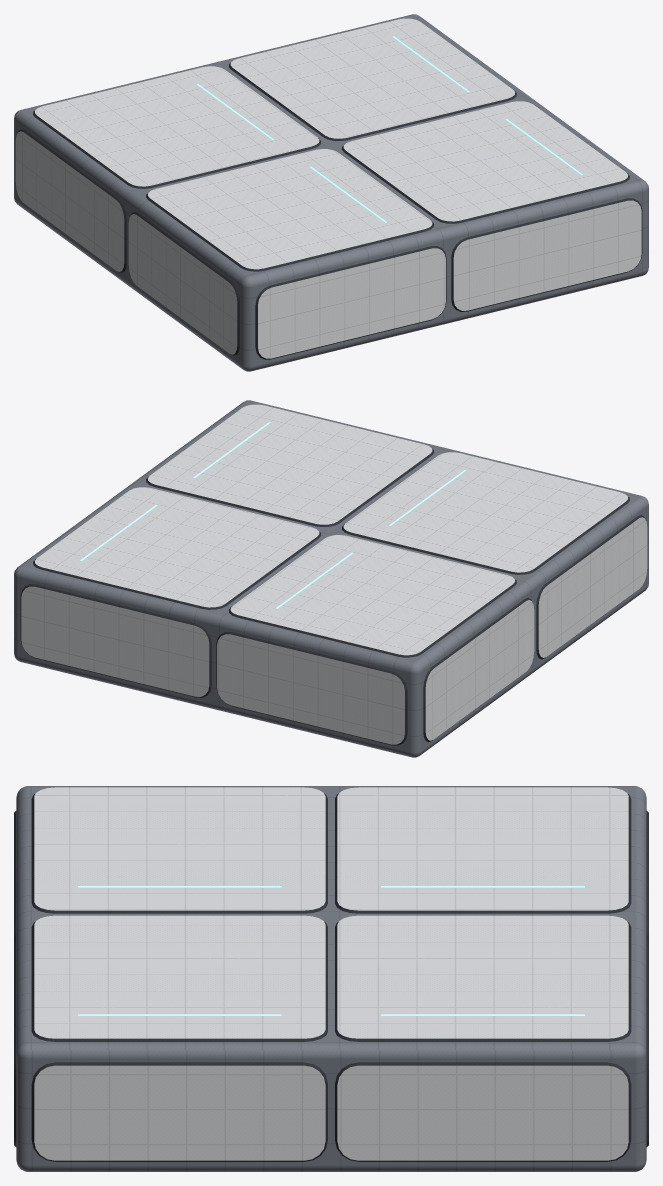
Rendered from R4B_Plate2x2.glb.
3 views of the same model, one above another, from view 1: azimuth 30°, elevation 25°; view 2: azimuth 150°, elevation 25°; view 3: azimuth 270°, elevation 25° (orthographic). The views are drawn at different scales.
Parts seen in each view (by area): view 1: R4B_Plate2x2; view 2: R4B_Plate2x2; view 3: R4B_Plate2x2.
Boxes of the visible parts, x1=… form: R4B_Plate2x2: x1=14, y1=14, x2=648, y2=371; R4B_Plate2x2: x1=14, y1=400, x2=648, y2=757; R4B_Plate2x2: x1=14, y1=786, x2=648, y2=1171.
Size of the model in its own units: 1.07 by 0.2462 by 1.07.
4 materials, 3 textured.
